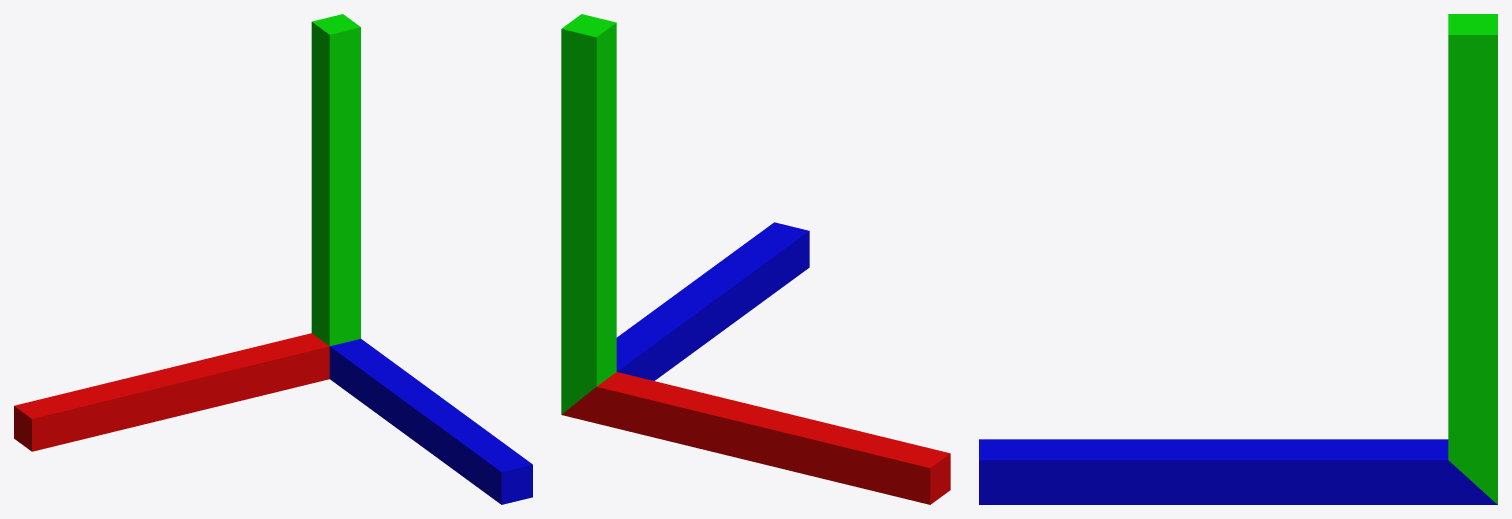
File: Axis.fbx
3 views of the same model, side by side, from view 1: azimuth 30°, elevation 25°; view 2: azimuth 150°, elevation 25°; view 3: azimuth 270°, elevation 25° (orthographic). The views are drawn at different scales.
Parts seen in each view (by area): view 1: Axis; view 2: Axis; view 3: Axis.
Part boxes in pixels (box(x1,y1,x2,y2)): Axis: box(14, 14, 532, 504); Axis: box(561, 14, 950, 504); Axis: box(979, 14, 1497, 504).
Size of the model in its own units: 10.5 by 10.5 by 10.5.
